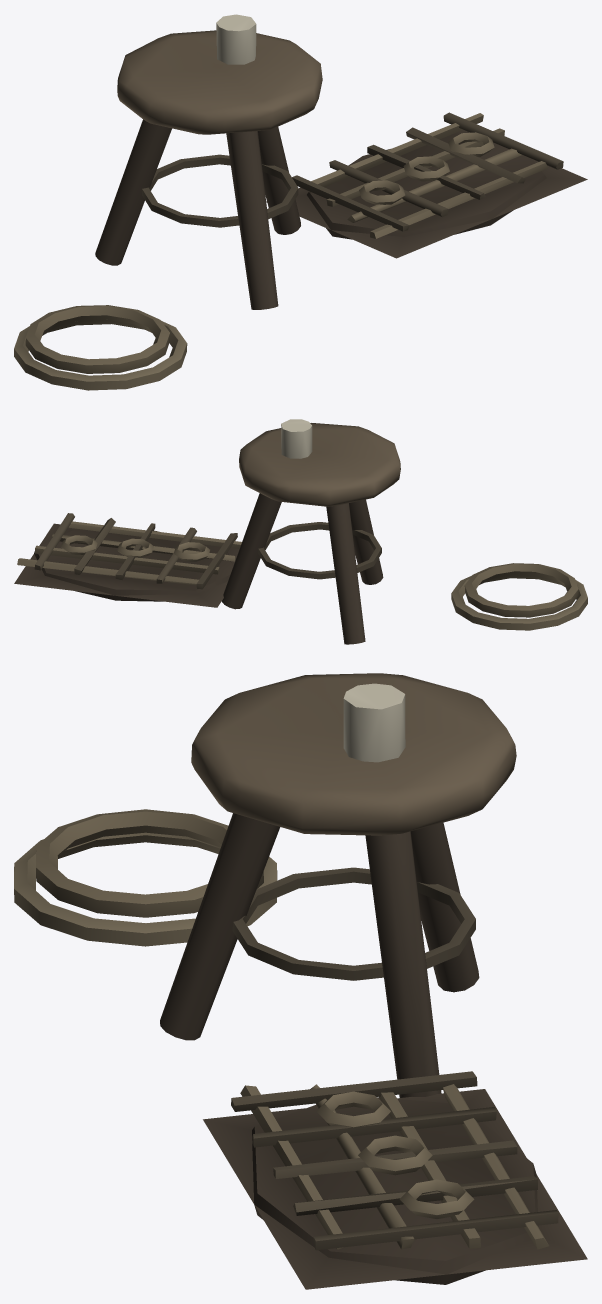
Rendered from mender_stool_a_lod1.glb.
3 renders of one model, top to bottom at view 1: azimuth 30°, elevation 25°; view 2: azimuth 150°, elevation 25°; view 3: azimuth 270°, elevation 25°, orthographic. The views are drawn at different scales.
Parts seen in each view (by area): view 1: Surface.001; view 2: Surface.001; view 3: Surface.001.
Part boxes in pixels (bbox=[...]): Surface.001: bbox=[14, 14, 587, 390]; Surface.001: bbox=[14, 419, 587, 644]; Surface.001: bbox=[14, 673, 587, 1289].
Bounding box in the file's own units: 2.65 × 0.9663 × 1.38.
